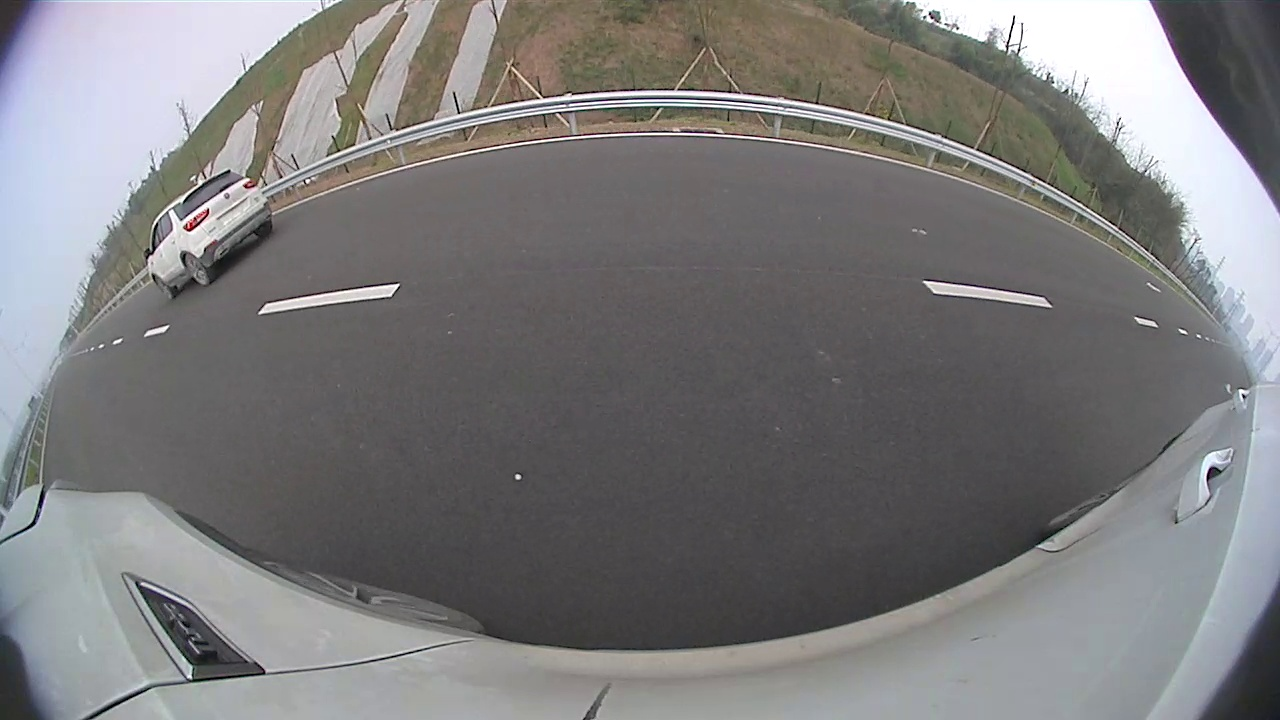car: (755, 139, 909, 228)
front: (756, 174, 774, 205)
rear: (805, 181, 833, 220)
